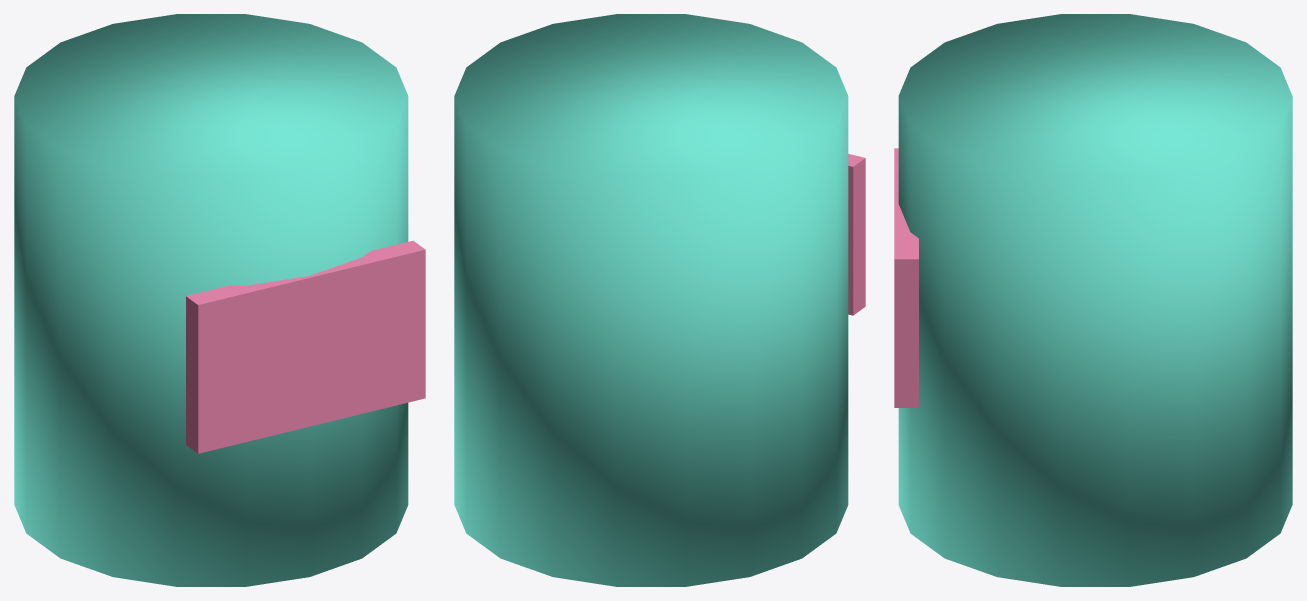
The model's file is FestivalStock.fbx.
3 views of the same model, side by side, from view 1: azimuth 30°, elevation 25°; view 2: azimuth 150°, elevation 25°; view 3: azimuth 270°, elevation 25° (orthographic).
Parts seen in each view (by area): view 1: FestivalStock Mint__Mint, FestivalStock Rose__Rose; view 2: FestivalStock Mint__Mint, FestivalStock Rose__Rose; view 3: FestivalStock Mint__Mint, FestivalStock Rose__Rose.
Part boxes in pixels (<box>): FestivalStock Mint__Mint: <box>14,14,408,586</box>; FestivalStock Rose__Rose: <box>186,240,425,453</box>; FestivalStock Mint__Mint: <box>454,14,848,586</box>; FestivalStock Rose__Rose: <box>848,154,865,315</box>; FestivalStock Mint__Mint: <box>898,14,1292,586</box>; FestivalStock Rose__Rose: <box>894,148,918,407</box>.
Size of the model in its own units: 47.27 by 55 by 48.5.
